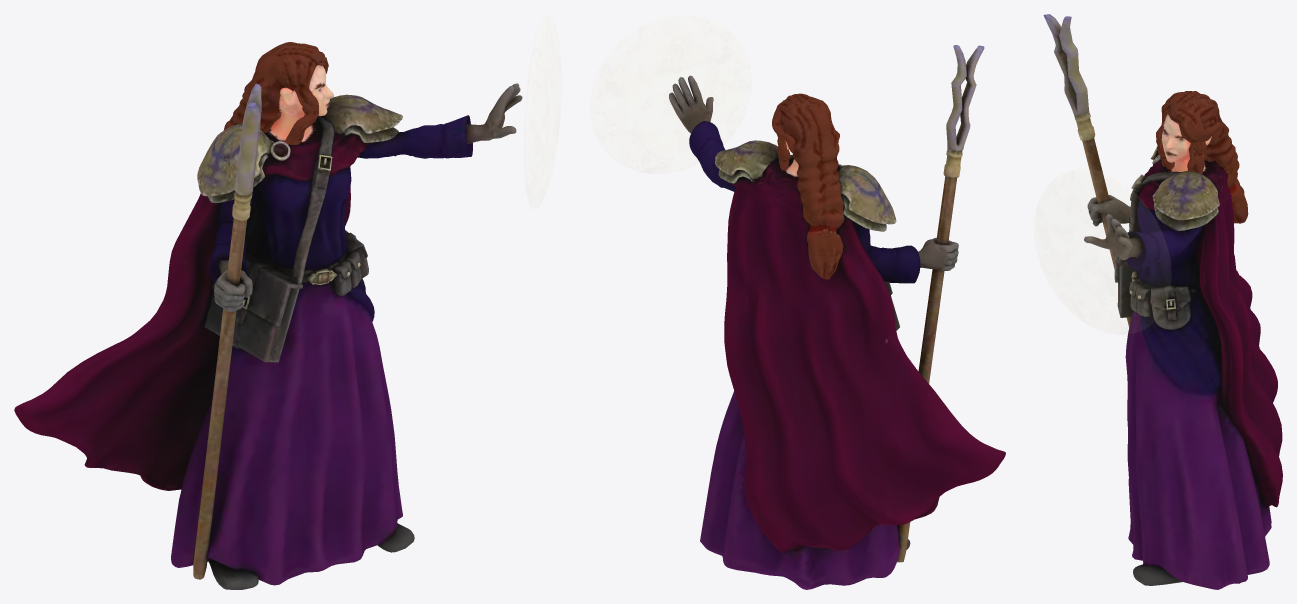
The model's file is MZ4250 - Human Female Abjuration Wizard with Shield spell_2.glb.
The picture shows the model from 3 angles, left to right: view 1: azimuth 30°, elevation 25°; view 2: azimuth 150°, elevation 25°; view 3: azimuth 270°, elevation 25°; orthographic projection. The views are drawn at different scales.
Visible parts, largest first — view 1: HFA_2; view 2: HFA_2; view 3: HFA_2.
Part boxes in pixels (bbox=[...]): HFA_2: bbox=[14, 42, 522, 589]; HFA_2: bbox=[669, 45, 1005, 589]; HFA_2: bbox=[1043, 14, 1282, 589].
Size of the model in its own units: 2103 by 2220 by 998.
Materials: 2 (2 with a texture image).
